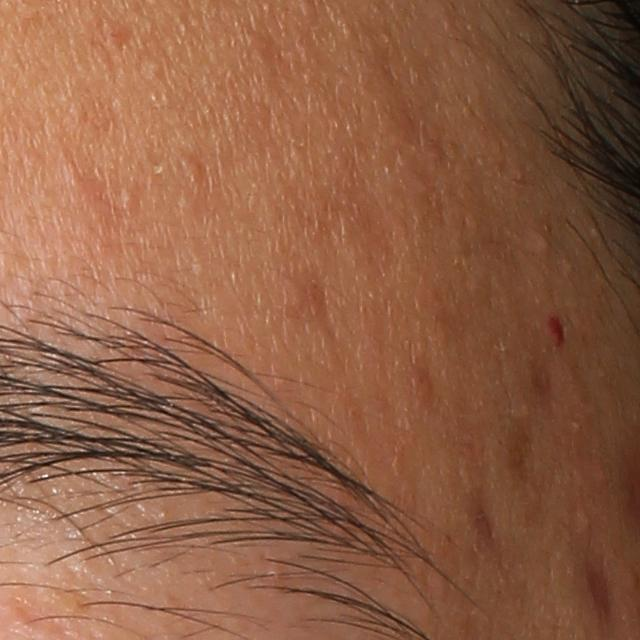atrophic_scar: (581, 548, 622, 630)
comedo: (140, 58, 169, 80), (121, 186, 141, 213), (181, 159, 205, 180)
